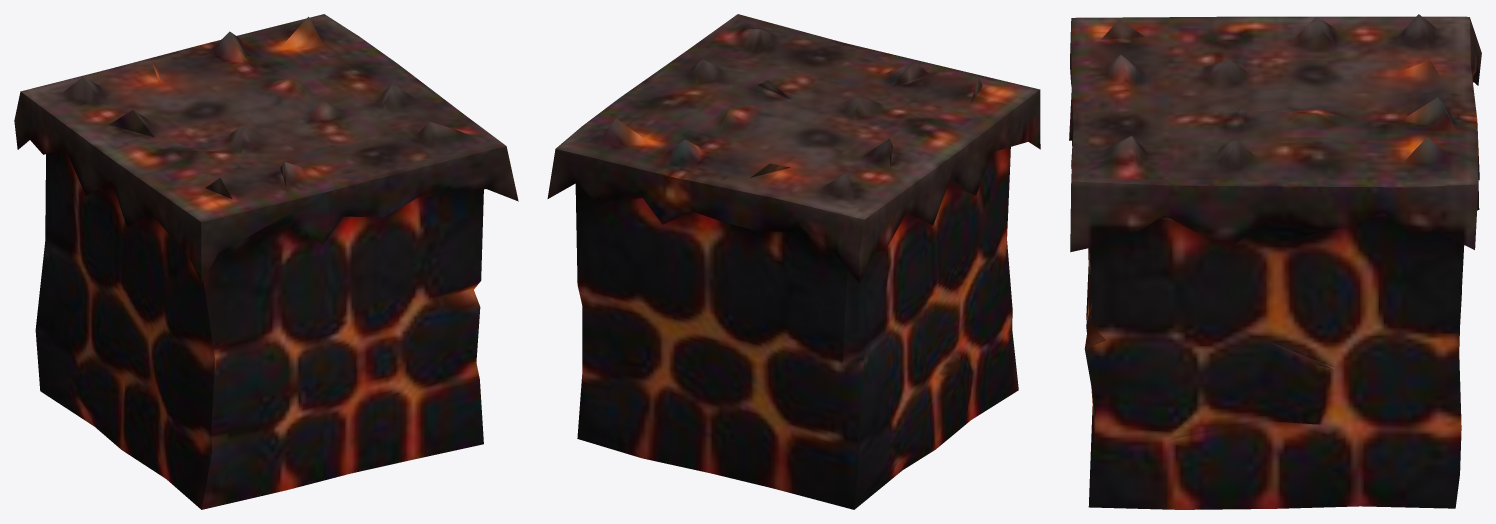
File: b_braises_mur_2.glb
3 renders of one model, left to right at view 1: azimuth 30°, elevation 25°; view 2: azimuth 150°, elevation 25°; view 3: azimuth 270°, elevation 25°, orthographic. The views are drawn at different scales.
Visible parts, largest first — view 1: geometry_0; view 2: geometry_0; view 3: geometry_0.
Boxes of the visible parts, box(x1,y1,x2,y2) form: geometry_0: box(14, 14, 518, 509); geometry_0: box(547, 14, 1040, 509); geometry_0: box(1069, 14, 1481, 509).
Bounding box in the file's own units: 1 × 0.9609 × 1.
Materials: 1 (1 with a texture image).
